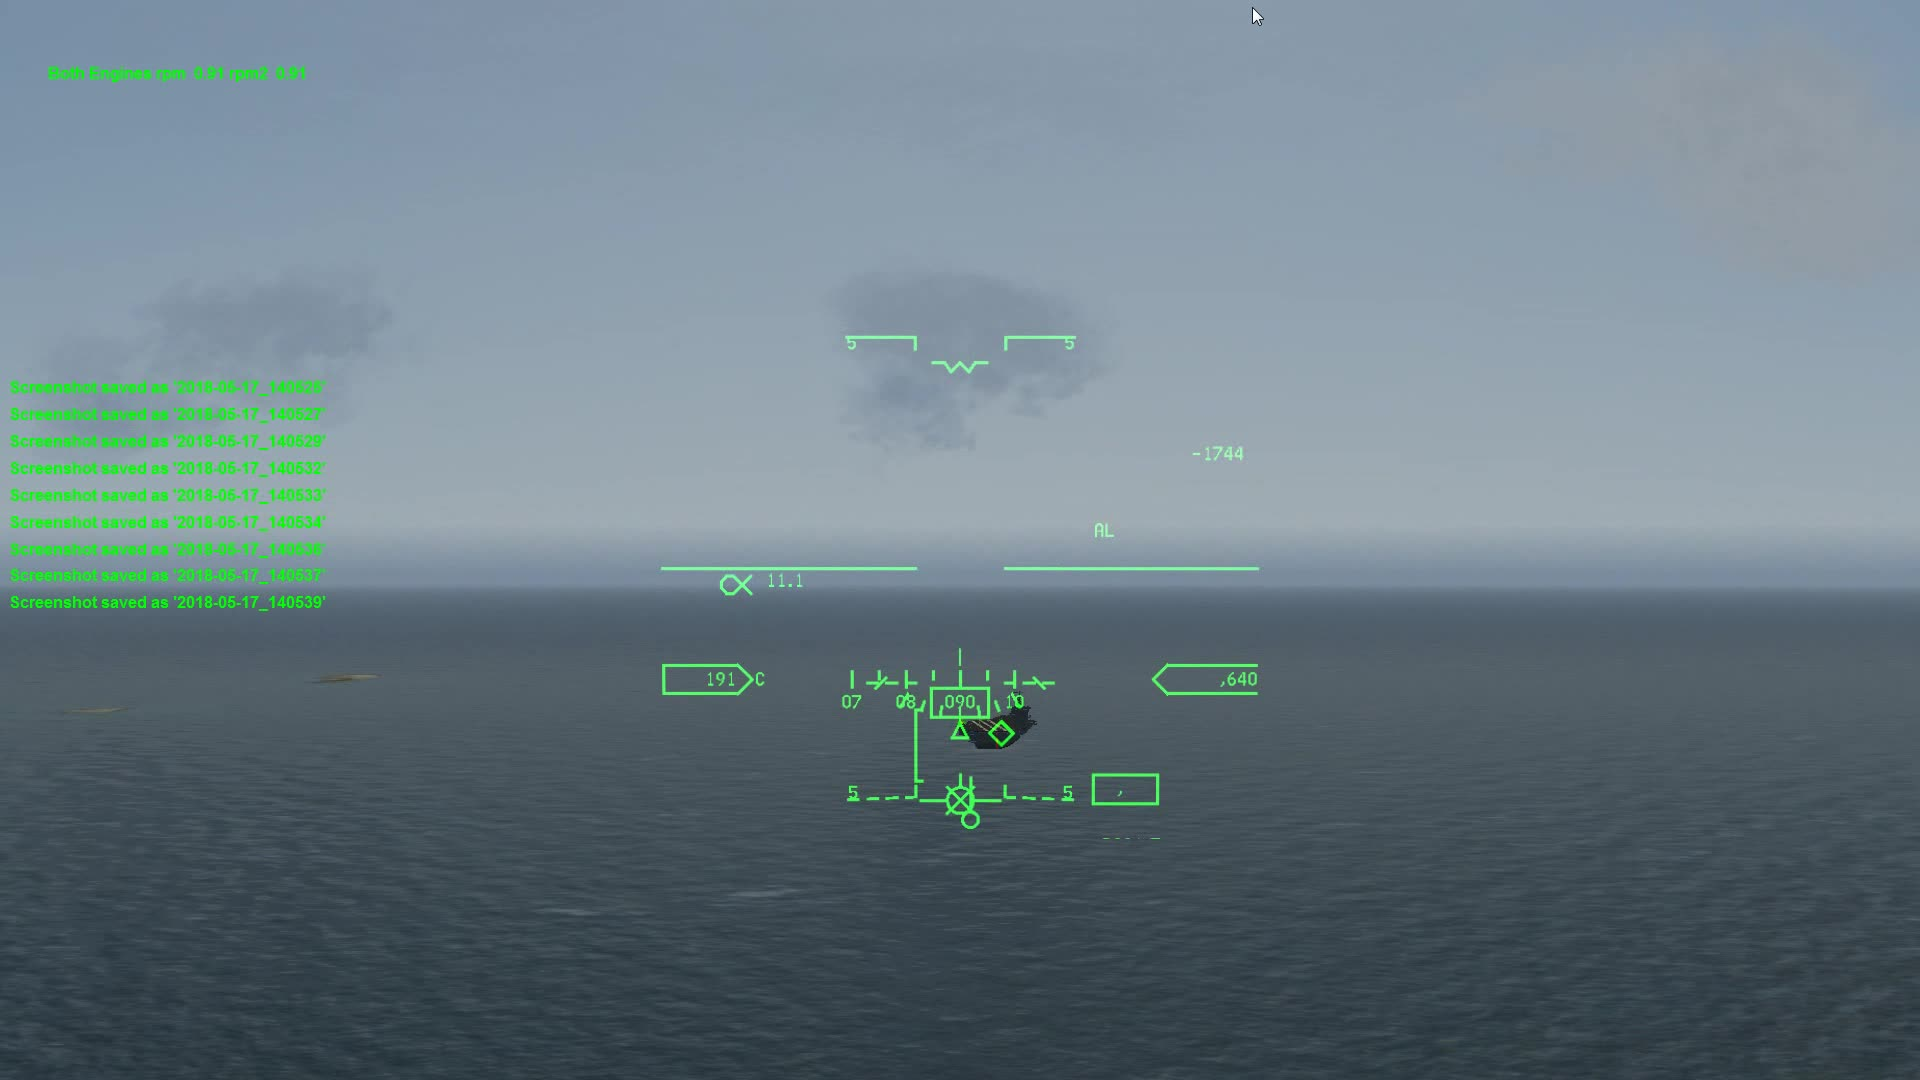speed vector: (924, 764, 1000, 814)
